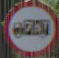Heavy Vehicles: (4, 2, 53, 50)
